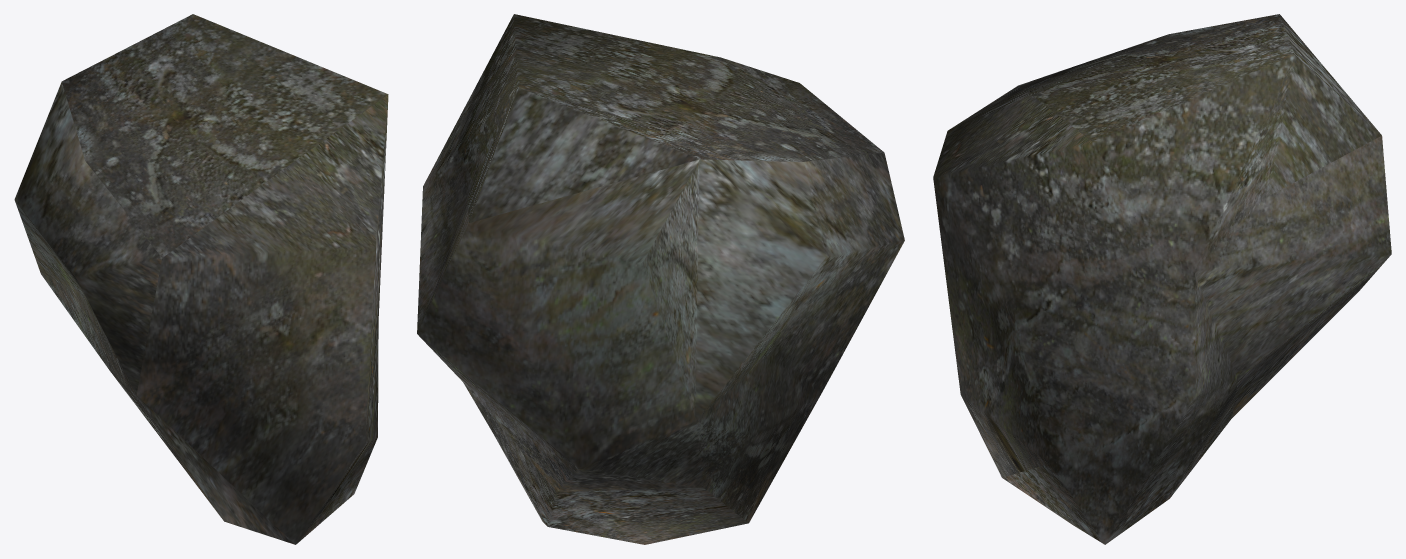
Rendered from Rock.002-LOD1.fbx.
3 renders of one model, left to right at view 1: azimuth 30°, elevation 25°; view 2: azimuth 150°, elevation 25°; view 3: azimuth 270°, elevation 25°, orthographic. The views are drawn at different scales.
Parts seen in each view (by area): view 1: Rock.011; view 2: Rock.011; view 3: Rock.011.
Boxes of the visible parts, x1=… form: Rock.011: x1=14, y1=14, x2=388, y2=544; Rock.011: x1=417, y1=14, x2=904, y2=544; Rock.011: x1=933, y1=14, x2=1391, y2=544.
Size of the model in its own units: 185 by 232 by 206.
